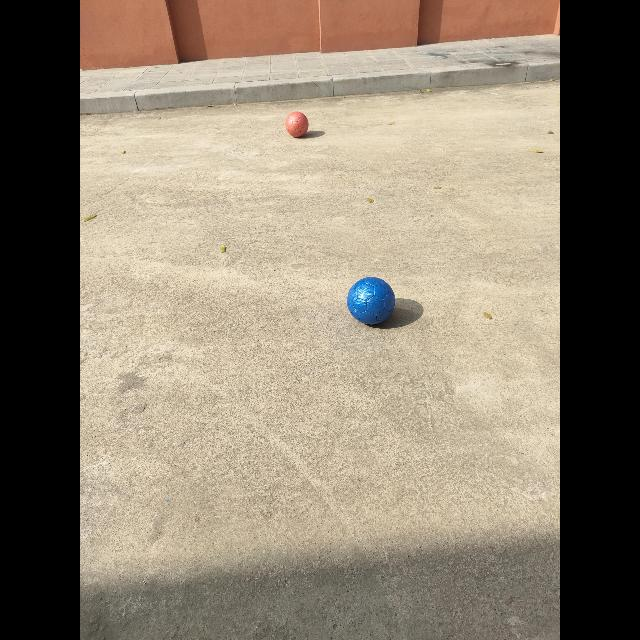B: (348, 278, 395, 325)
R: (285, 111, 309, 138)
